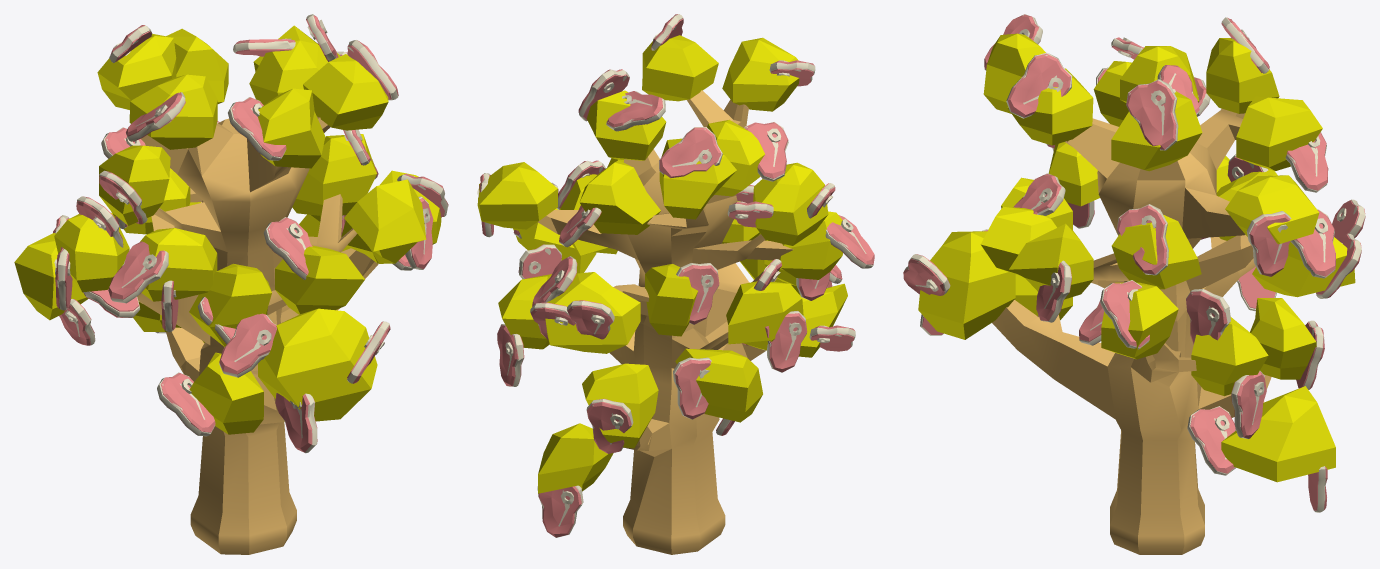
Rendered from steak_tree.fbx.
3 renders of one model, left to right at view 1: azimuth 30°, elevation 25°; view 2: azimuth 150°, elevation 25°; view 3: azimuth 270°, elevation 25°, orthographic. The views are drawn at different scales.
Parts seen in each view (by area): view 1: pPlane38; view 2: pPlane38; view 3: pPlane38.
Part boxes in pixels (left/top/right/bottom): pPlane38: left=14, top=14, right=448, bottom=554; pPlane38: left=477, top=14, right=874, bottom=554; pPlane38: left=903, top=14, right=1365, bottom=554.
Bounding box in the file's own units: 240 × 324 × 266.
